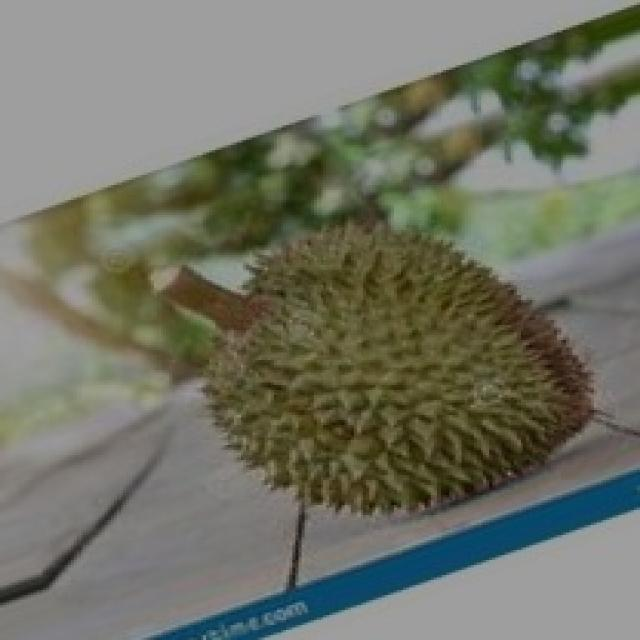fruit: (166, 180, 619, 570)
